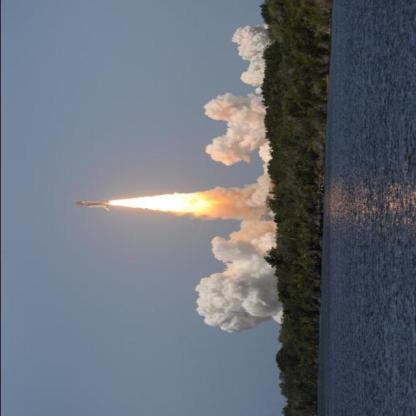MIL_TBM: (84, 204, 108, 208)
